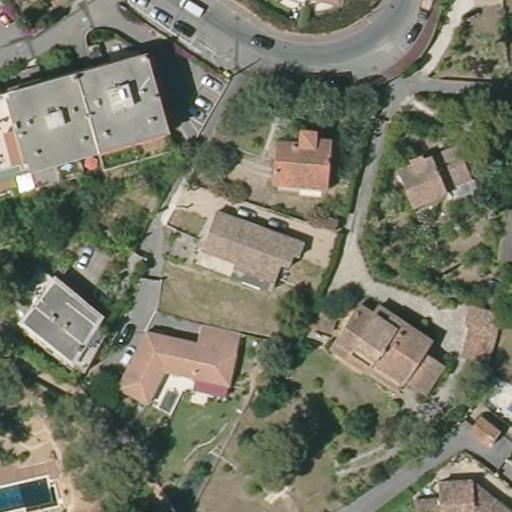pool: (0, 465, 57, 511)
